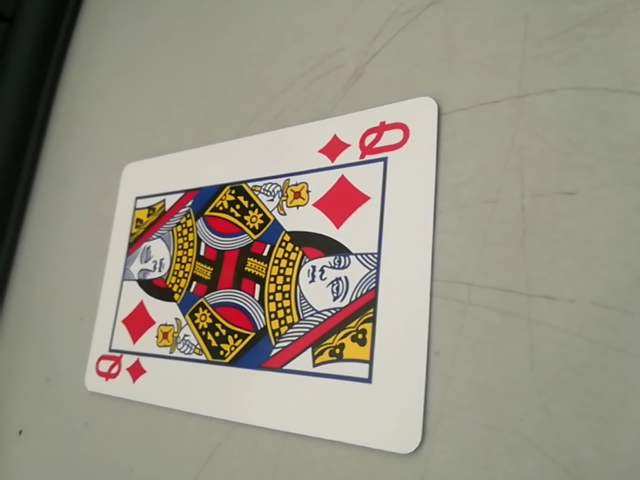fk q: (318, 119, 417, 166), (88, 349, 154, 390)
